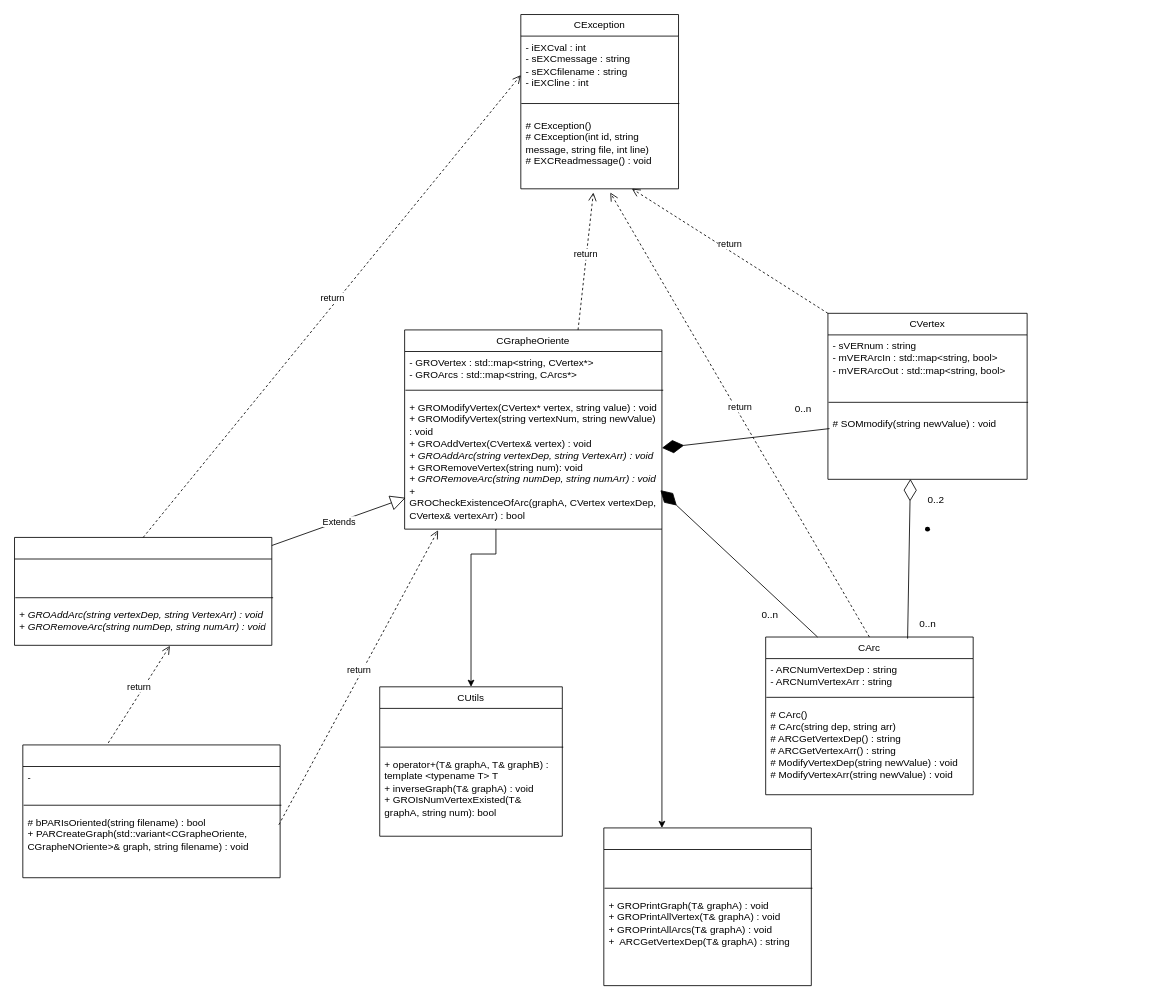
This 1174x1003 diagram has some shape labels left out. The box of each missing label's shape, as (x1, y1, x2, y2) in pixels:
CGrapheNOriente: (14, 537, 272, 645)
CParser: (22, 744, 280, 878)
CPrintGraph: (603, 827, 811, 986)
